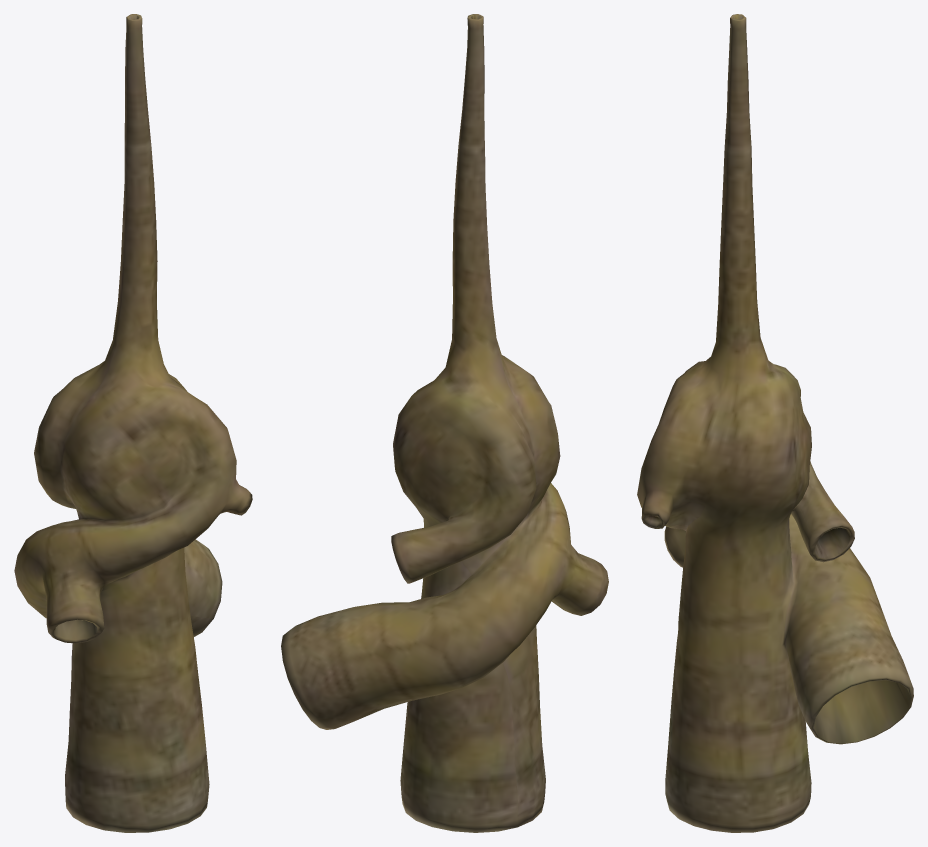
File: weapon-wp_a_4014.glb
The picture shows the model from 3 angles, left to right: view 1: azimuth 30°, elevation 25°; view 2: azimuth 150°, elevation 25°; view 3: azimuth 270°, elevation 25°; orthographic projection.
Visible parts, largest first — view 1: wp_a_4014_mesh; view 2: wp_a_4014_mesh; view 3: wp_a_4014_mesh.
Part boxes in pixels (x1,y1,x2,y2): wp_a_4014_mesh: (14, 14, 252, 832); wp_a_4014_mesh: (281, 14, 608, 832); wp_a_4014_mesh: (637, 14, 913, 832).
Size of the model in its own units: 0.2747 by 0.8609 by 0.2751.
Materials: 1 (1 with a texture image).
